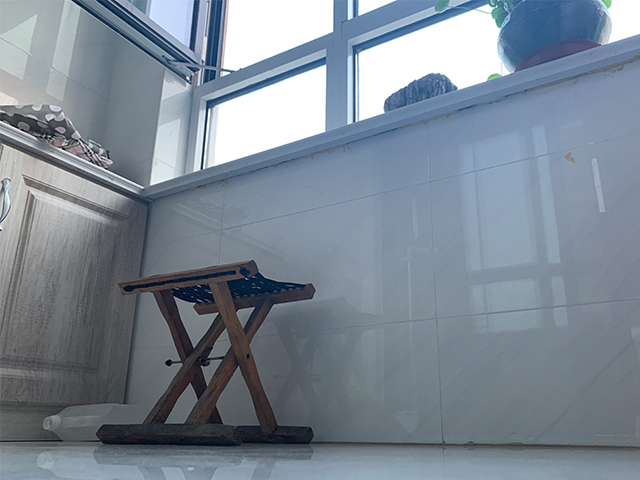cabinet: (1, 121, 150, 442)
stool: (95, 259, 316, 446)
